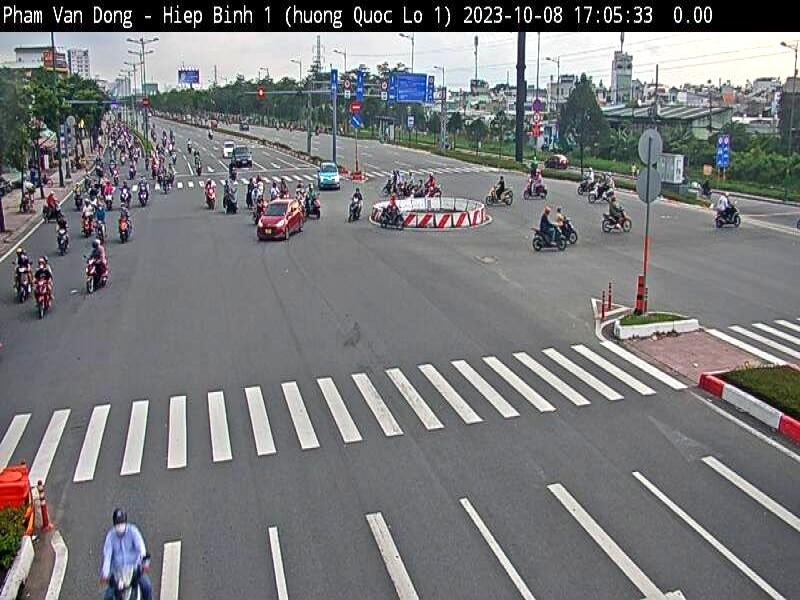car: (258, 196, 304, 238), (317, 162, 345, 192)
motorcycle: (533, 223, 568, 251), (604, 206, 633, 235)
